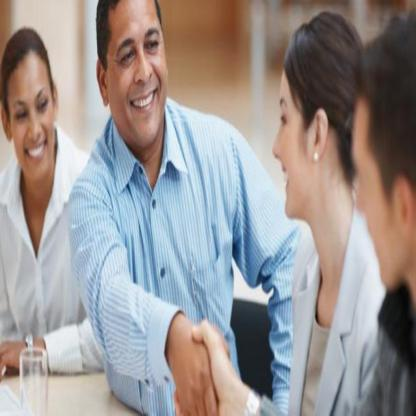face: (351, 96, 404, 294), (107, 6, 169, 149), (10, 53, 55, 178), (273, 54, 306, 219)
